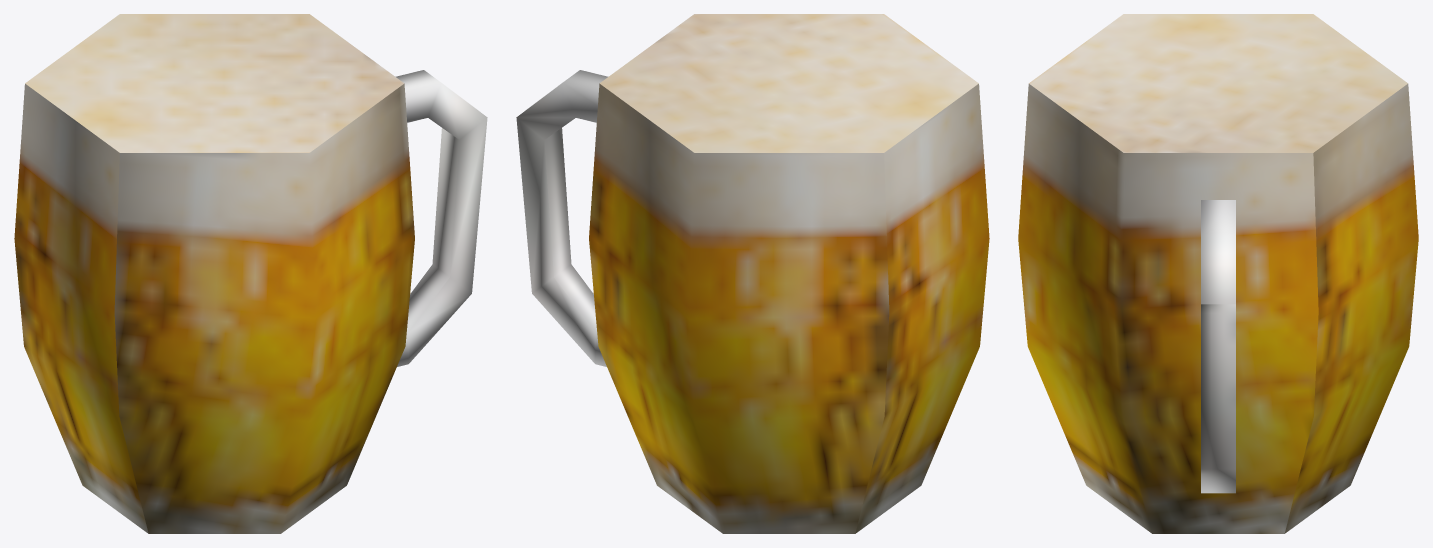
File: BeerLagerInGlassV2.fbx
3 renders of one model, left to right at view 1: azimuth 30°, elevation 25°; view 2: azimuth 150°, elevation 25°; view 3: azimuth 270°, elevation 25°, orthographic.
Parts seen in each view (by area): view 1: Beer&Wine.012; view 2: Beer&Wine.012; view 3: Beer&Wine.012.
Part boxes in pixels (<box>): Beer&Wine.012: <box>14,14,487,533</box>; Beer&Wine.012: <box>516,14,989,533</box>; Beer&Wine.012: <box>1018,14,1418,533</box>.
Size of the model in its own units: 0.2392 by 0.2219 by 0.2003.
